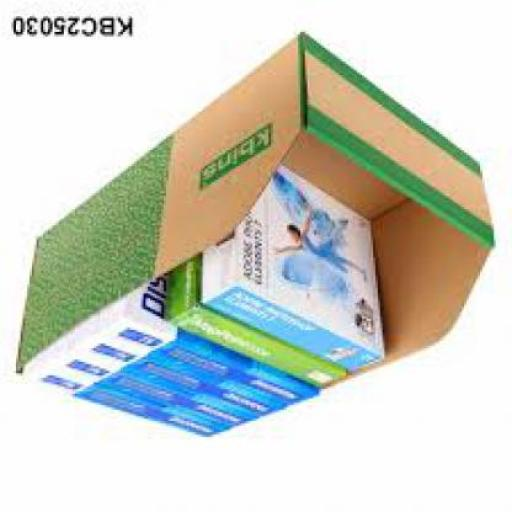cardboard: (18, 39, 501, 419), (20, 38, 307, 376), (303, 42, 496, 250), (200, 164, 390, 373), (105, 282, 321, 407), (168, 259, 350, 390), (84, 310, 289, 420), (371, 198, 492, 364), (62, 335, 254, 426), (23, 350, 232, 428), (284, 130, 412, 223)
